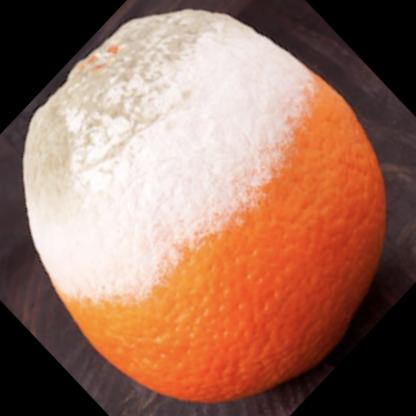rotten: (25, 11, 388, 409)
